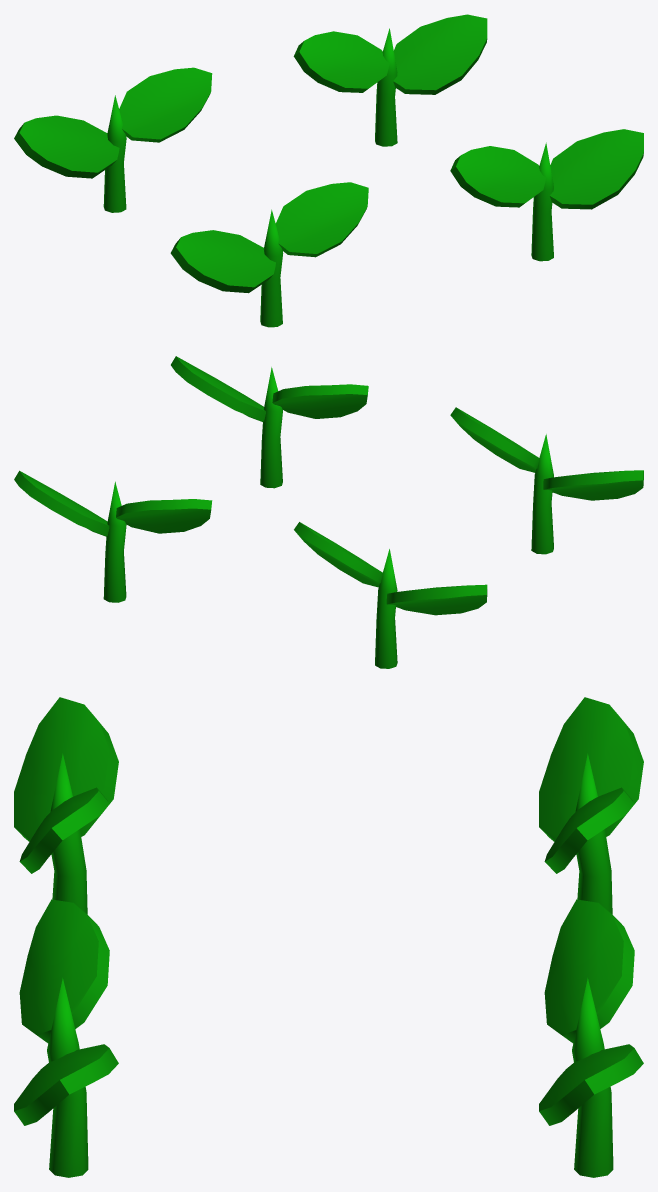
File: Farm_Crop_Sunflower_Step_01.glb
3 views of the same model, one above another, from view 1: azimuth 30°, elevation 25°; view 2: azimuth 150°, elevation 25°; view 3: azimuth 270°, elevation 25° (orthographic). The views are drawn at different scales.
Visible parts, largest first — view 1: Farm_Crop_Sunflower_Step_01; view 2: Farm_Crop_Sunflower_Step_01; view 3: Farm_Crop_Sunflower_Step_01.
Boxes of the visible parts, x1,y1,x2,y2 form: Farm_Crop_Sunflower_Step_01: (14,14,643,327); Farm_Crop_Sunflower_Step_01: (14,356,643,668); Farm_Crop_Sunflower_Step_01: (14,697,643,1177).
Size of the model in its own units: 1.74 by 0.4224 by 1.2.
1 material, 1 textured.
